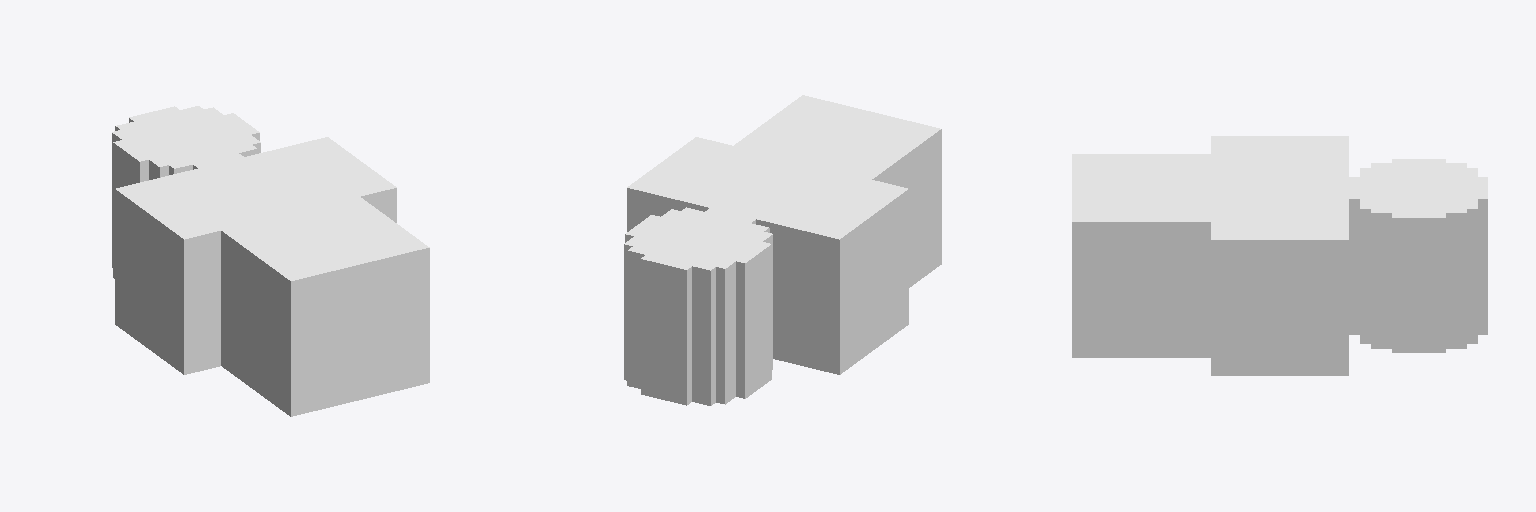
The picture shows the model from 3 angles: view 1: azimuth 30°, elevation 25°; view 2: azimuth 150°, elevation 25°; view 3: azimuth 270°, elevation 25°; orthographic projection.
Parts seen in each view (by area): view 1: [number redacted]; view 2: [number redacted]; view 3: [number redacted].
Part boxes in pixels (x1,y1,x2,y2): [number redacted]: (112, 106, 429, 416); [number redacted]: (624, 95, 941, 405); [number redacted]: (1072, 136, 1487, 375).
Bounding box in the file's own units: 23 × 14 × 39.